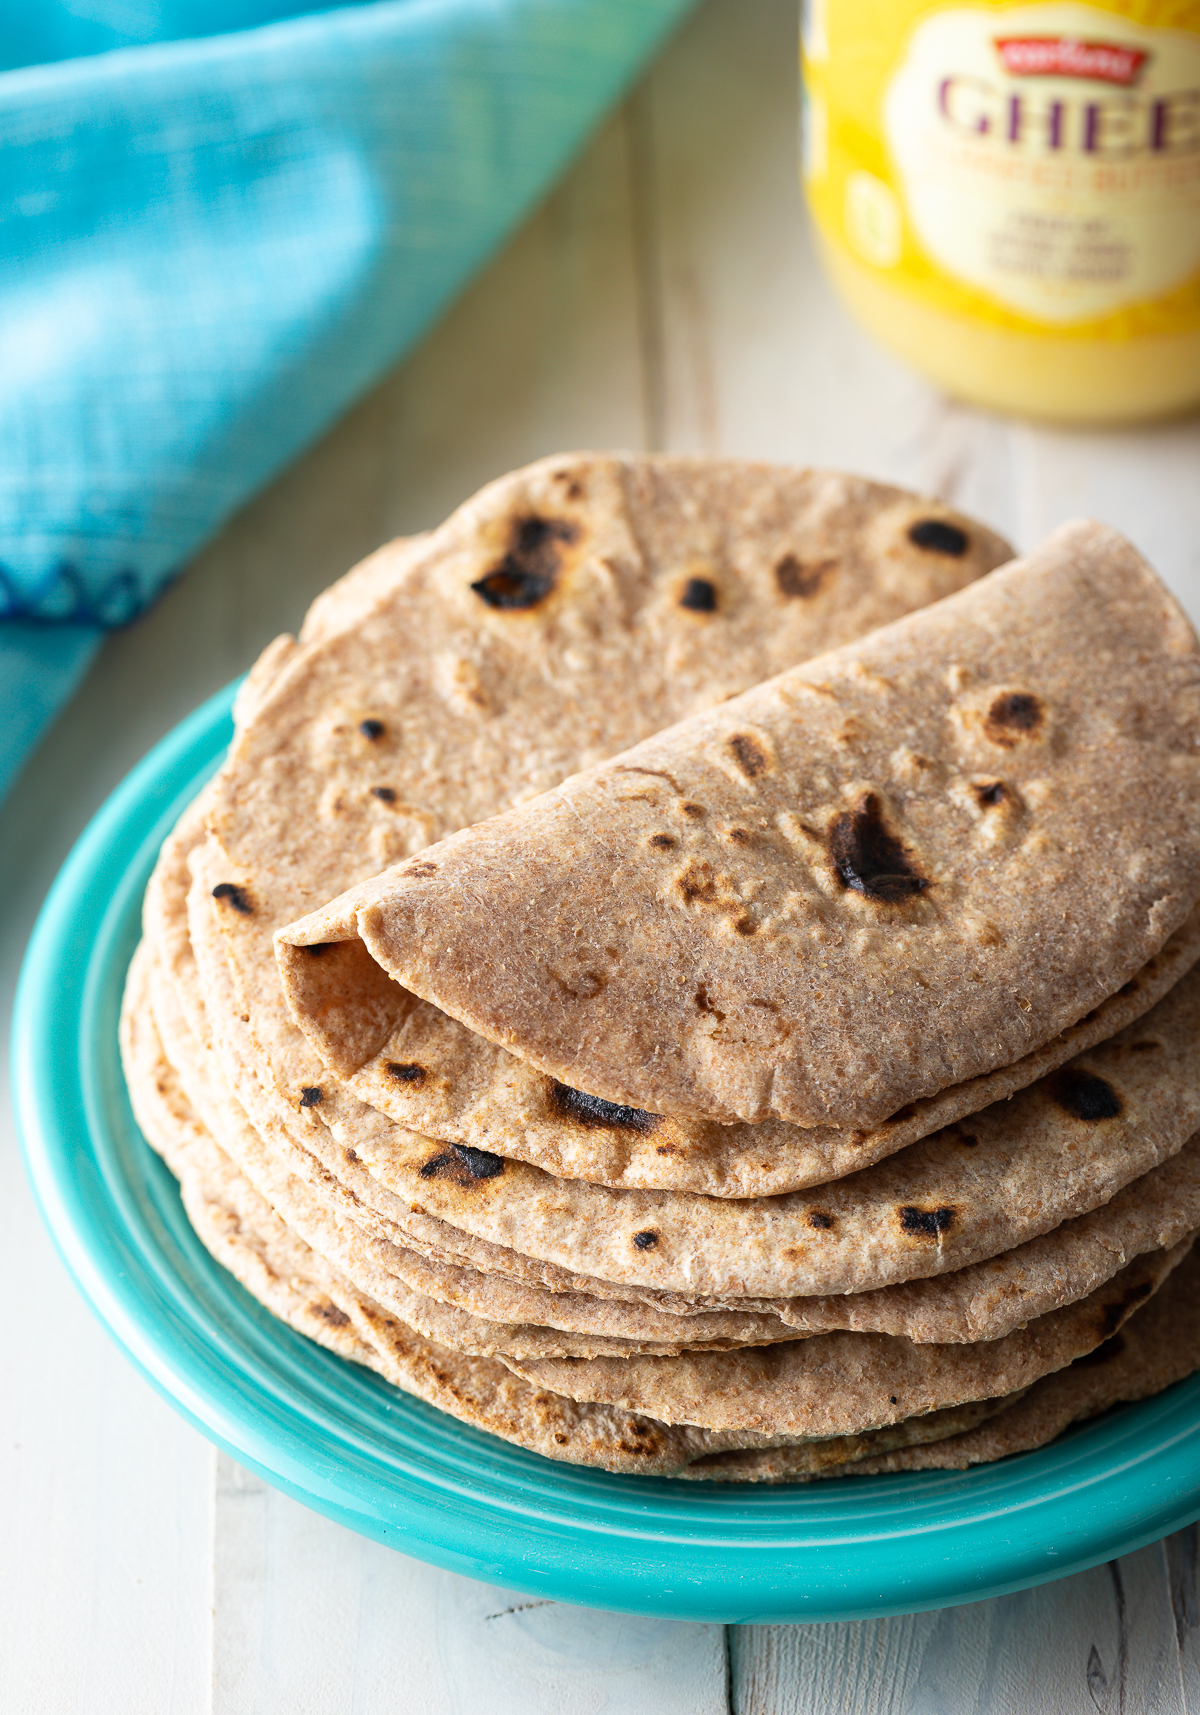Farata: (120, 379, 1184, 1439)
